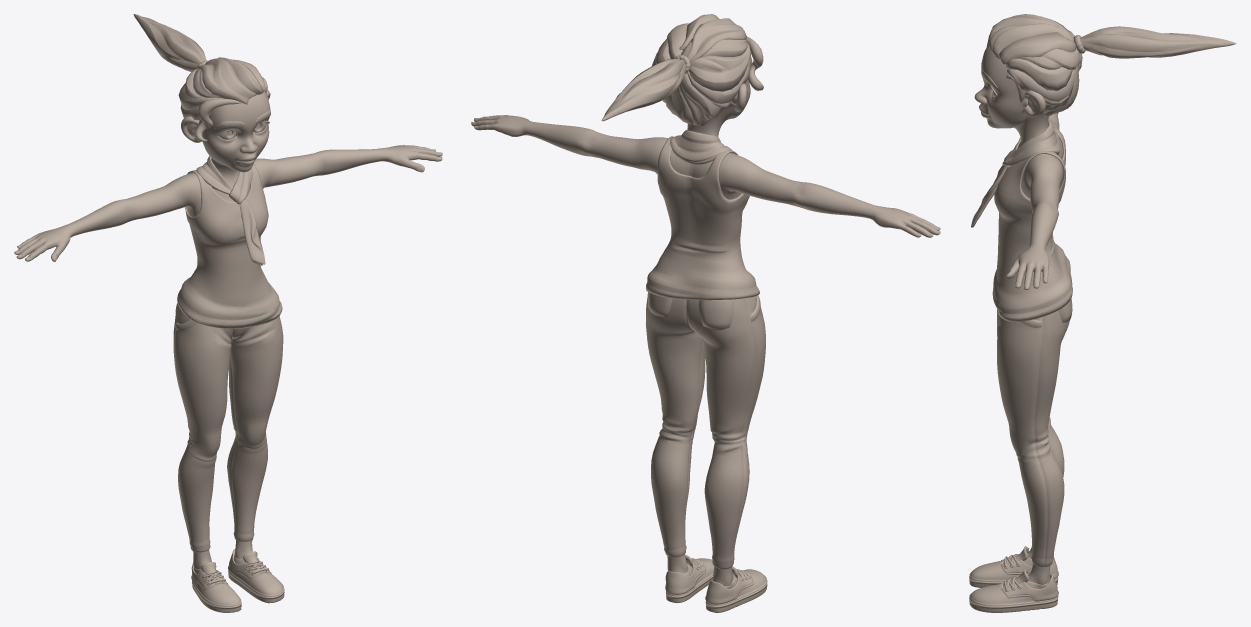
Rendered from rain-geometry-study.glb.
3 views of the same model, side by side, from view 1: azimuth 30°, elevation 25°; view 2: azimuth 150°, elevation 25°; view 3: azimuth 270°, elevation 25° (orthographic). The views are drawn at different scales.
Visible parts, largest first — view 1: STUDY-GEO-rain-jeans, STUDY-GEO-rain-top, STUDY-GEO-rain-body, STUDY-GEO-rain-head, STUDY-GEO-rain-shoes, STUDY-GEO-rain-hair_main, STUDY-GEO-rain-scarf, STUDY-GEO-rain-hair_ponytail, STUDY-GEO-rain-hair_strand; view 2: STUDY-GEO-rain-jeans, STUDY-GEO-rain-body, STUDY-GEO-rain-top, STUDY-GEO-rain-hair_main, STUDY-GEO-rain-shoes, STUDY-GEO-rain-hair_ponytail, STUDY-GEO-rain-scarf, STUDY-GEO-rain-head; view 3: STUDY-GEO-rain-jeans, STUDY-GEO-rain-top, STUDY-GEO-rain-hair_main, STUDY-GEO-rain-body, STUDY-GEO-rain-shoes, STUDY-GEO-rain-head, STUDY-GEO-rain-hair_ponytail, STUDY-GEO-rain-scarf.
Part boxes in pixels (left/top/right/bottom): STUDY-GEO-rain-jeans: left=173, top=303, right=283, bottom=552; STUDY-GEO-rain-top: left=177, top=164, right=282, bottom=328; STUDY-GEO-rain-body: left=14, top=145, right=442, bottom=569; STUDY-GEO-rain-head: left=181, top=91, right=270, bottom=183; STUDY-GEO-rain-shoes: left=191, top=549, right=284, bottom=612; STUDY-GEO-rain-hair_main: left=178, top=57, right=270, bottom=124; STUDY-GEO-rain-scarf: left=196, top=156, right=265, bottom=265; STUDY-GEO-rain-hair_ponytail: left=133, top=14, right=206, bottom=71; STUDY-GEO-rain-hair_strand: left=194, top=98, right=241, bottom=141; STUDY-GEO-rain-jeans: left=645, top=292, right=765, bottom=569; STUDY-GEO-rain-body: left=471, top=115, right=940, bottom=586; STUDY-GEO-rain-top: left=646, top=136, right=759, bottom=300; STUDY-GEO-rain-hair_main: left=652, top=14, right=751, bottom=126; STUDY-GEO-rain-shoes: left=665, top=554, right=767, bottom=612; STUDY-GEO-rain-hair_ponytail: left=601, top=59, right=686, bottom=121; STUDY-GEO-rain-scarf: left=670, top=130, right=731, bottom=164; STUDY-GEO-rain-head: left=687, top=55, right=751, bottom=136; STUDY-GEO-rain-jeans: left=997, top=274, right=1072, bottom=566; STUDY-GEO-rain-top: left=992, top=127, right=1072, bottom=321; STUDY-GEO-rain-hair_main: left=986, top=14, right=1082, bottom=117; STUDY-GEO-rain-body: left=1005, top=112, right=1063, bottom=584; STUDY-GEO-rain-shoes: left=969, top=546, right=1058, bottom=612; STUDY-GEO-rain-head: left=974, top=48, right=1048, bottom=146; STUDY-GEO-rain-hair_ponytail: left=1080, top=26, right=1236, bottom=58; STUDY-GEO-rain-scarf: left=971, top=120, right=1060, bottom=227.
Size of the model in its own units: 1.4 by 1.65 by 0.6957.
